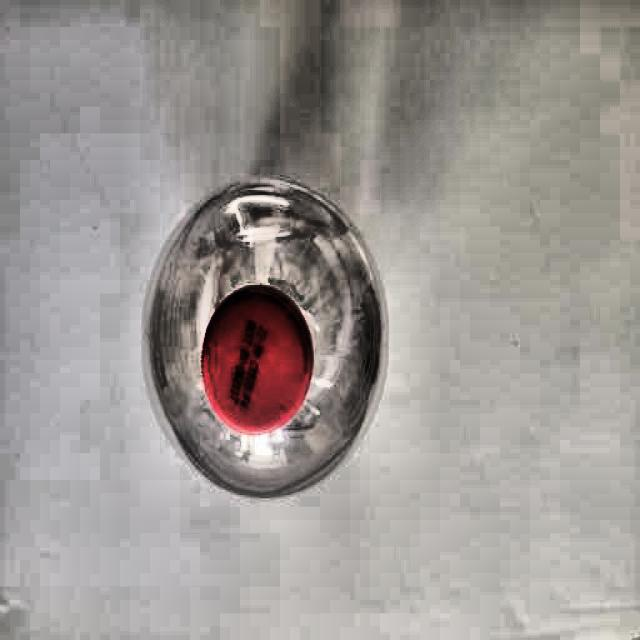plastic: (142, 185, 392, 493)
